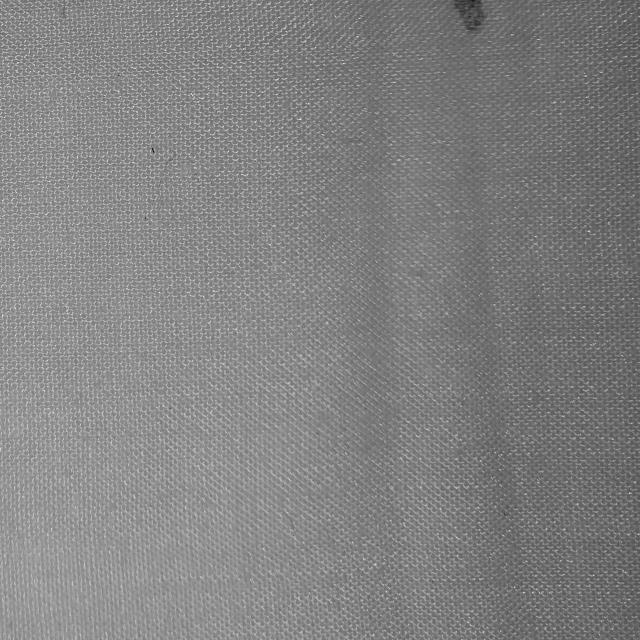Stain: (456, 0, 488, 29)
